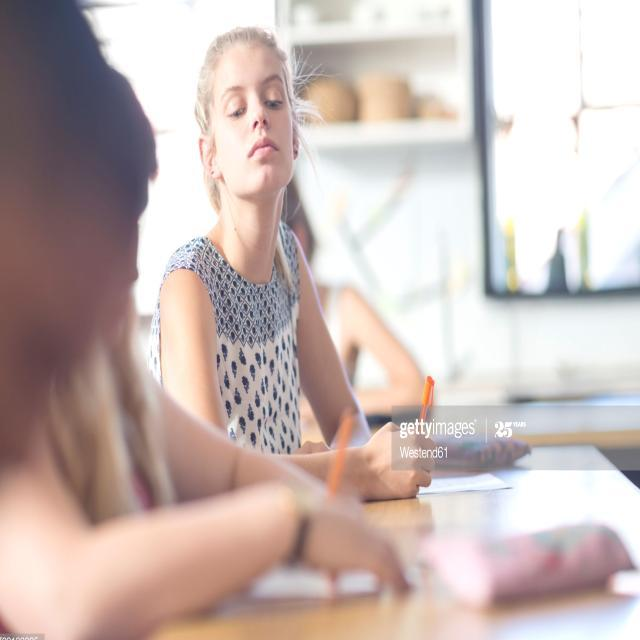cheating: (150, 15, 384, 453)
